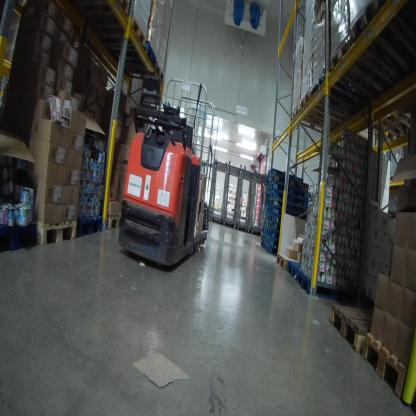pallet: (347, 5, 413, 87), (326, 37, 407, 103), (324, 301, 386, 363), (312, 75, 378, 122), (363, 333, 407, 398), (296, 87, 358, 130), (288, 101, 353, 140), (83, 36, 156, 70), (296, 270, 368, 304), (83, 13, 149, 47), (371, 1, 414, 42), (2, 214, 43, 256), (368, 106, 408, 148), (35, 214, 79, 250), (65, 1, 132, 24), (108, 58, 166, 82), (76, 206, 107, 242), (287, 255, 320, 283), (269, 172, 310, 193), (269, 188, 308, 210), (269, 181, 309, 198), (269, 199, 306, 215), (274, 252, 290, 273), (107, 214, 124, 233), (266, 219, 281, 233), (265, 235, 279, 250), (269, 205, 283, 219), (267, 167, 288, 176), (266, 226, 279, 239), (268, 212, 281, 223), (264, 245, 277, 255), (264, 171, 270, 183), (258, 241, 266, 249), (264, 189, 270, 199), (262, 219, 269, 227), (260, 235, 266, 243), (262, 225, 266, 237), (265, 205, 270, 214), (264, 183, 270, 190), (264, 199, 270, 205), (265, 214, 269, 221)
pallet_truck: (113, 71, 228, 282)
